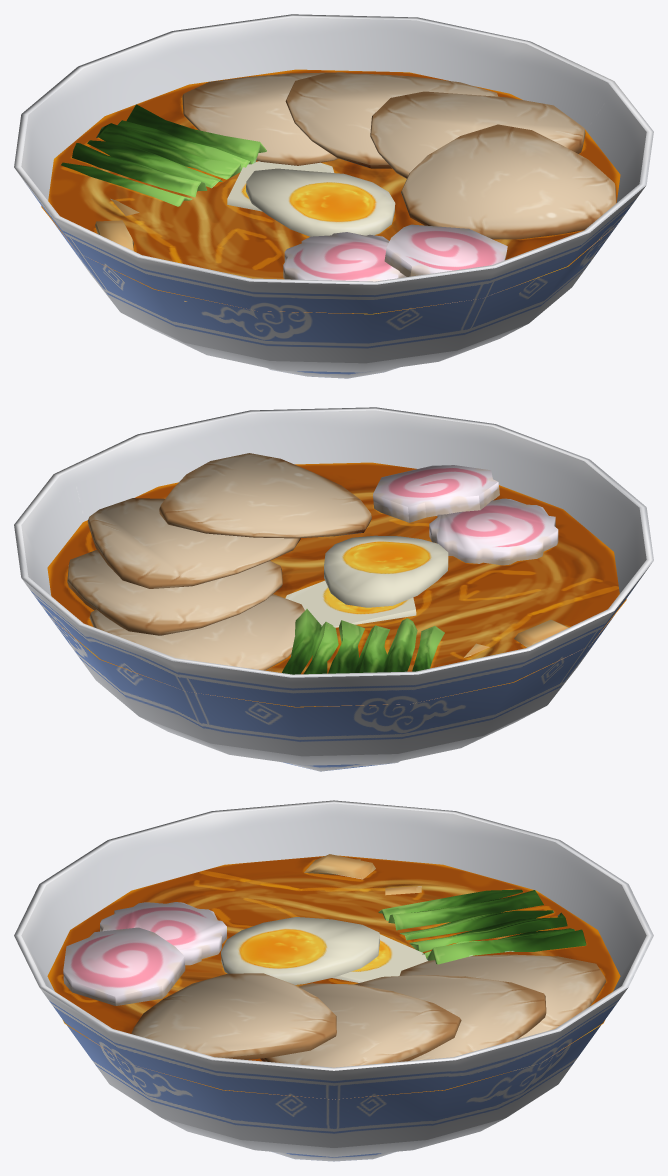
The model's file is ramen01.obj.
3 renders of one model, top to bottom at view 1: azimuth 30°, elevation 25°; view 2: azimuth 150°, elevation 25°; view 3: azimuth 270°, elevation 25°, orthographic.
Visible parts, largest first — view 1: Assembla; view 2: Assembla; view 3: Assembla.
Boxes of the visible parts, bbox=[...] form: Assembla: bbox=[14, 14, 653, 378]; Assembla: bbox=[14, 407, 653, 771]; Assembla: bbox=[14, 800, 653, 1161].
Size of the model in its own units: 6.73 by 2.13 by 6.73.
1 material, 1 textured.
